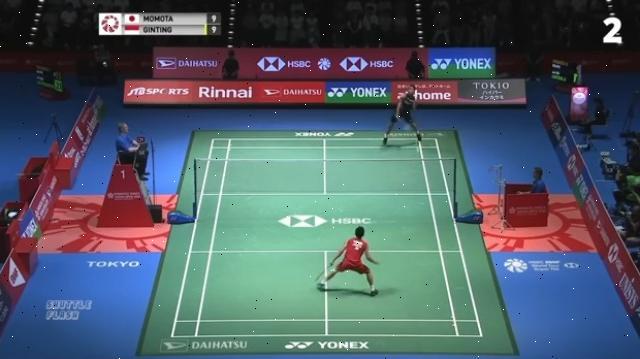Shuttlecock: (413, 144, 422, 156)
